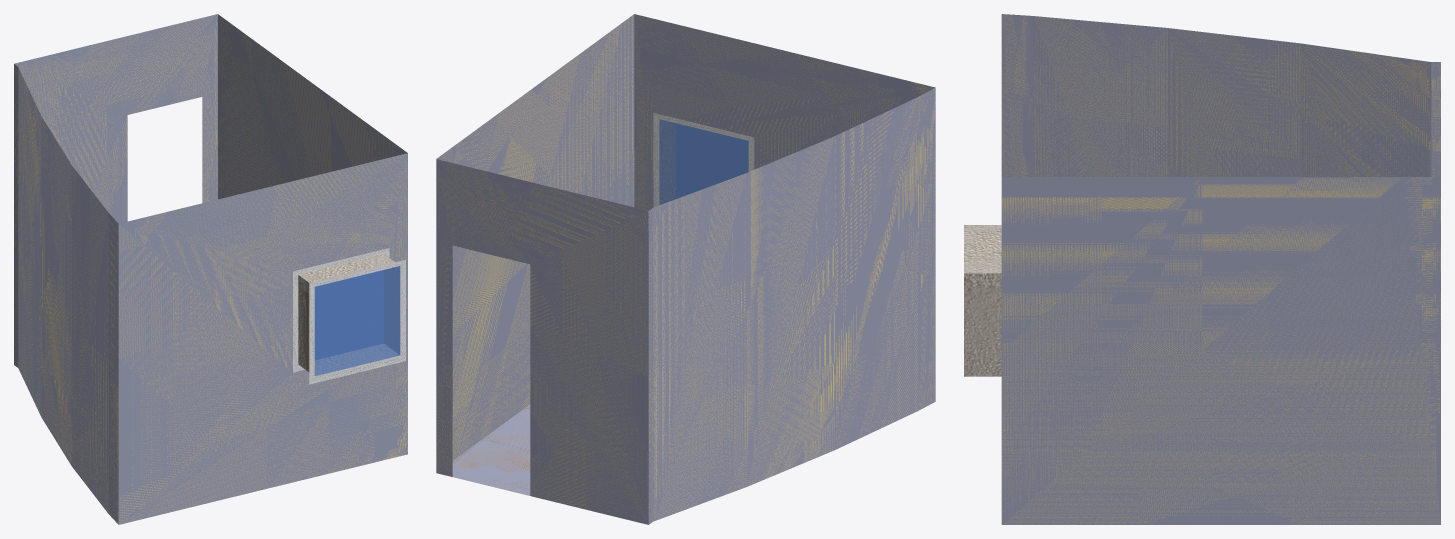
Rendered from DES030.obj.
3 renders of one model, left to right at view 1: azimuth 30°, elevation 25°; view 2: azimuth 150°, elevation 25°; view 3: azimuth 270°, elevation 25°, orthographic. The views are drawn at different scales.
Visible parts, largest first — view 1: Mesh5 DES030 Model, Mesh1 Group1 DES030 Model; view 2: Mesh5 DES030 Model, Mesh1 Group1 DES030 Model; view 3: Mesh5 DES030 Model, Mesh1 Group1 DES030 Model.
Part boxes in pixels (left/top/right/bottom): Mesh5 DES030 Model: left=14, top=14, right=407, bottom=524; Mesh1 Group1 DES030 Model: left=293, top=248, right=405, bottom=384; Mesh5 DES030 Model: left=436, top=14, right=935, bottom=524; Mesh1 Group1 DES030 Model: left=653, top=113, right=754, bottom=207; Mesh5 DES030 Model: left=1001, top=14, right=1440, bottom=524; Mesh1 Group1 DES030 Model: left=964, top=225, right=1001, bottom=376.
Bounding box in the file's own units: 3.02 × 3 × 3.73.
6 materials, 2 textured.
